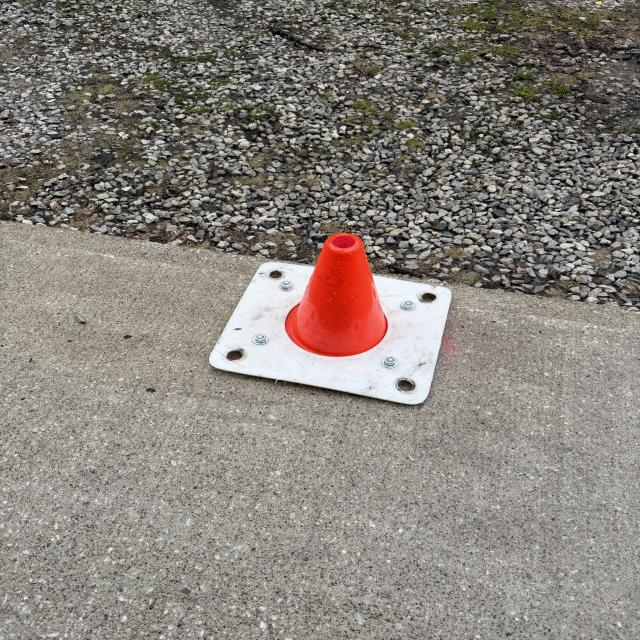Traffic Cone: (207, 233, 455, 408)
